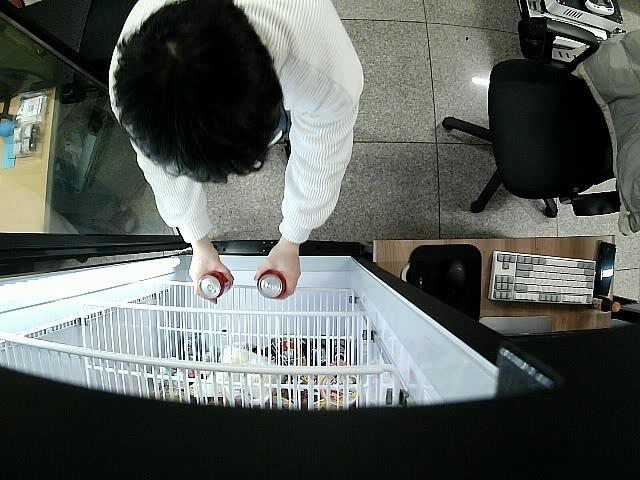11_cocaColaZero: (197, 268, 234, 298), (256, 269, 286, 300)
